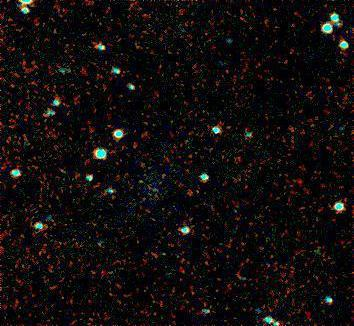star: (312, 286, 342, 316)
